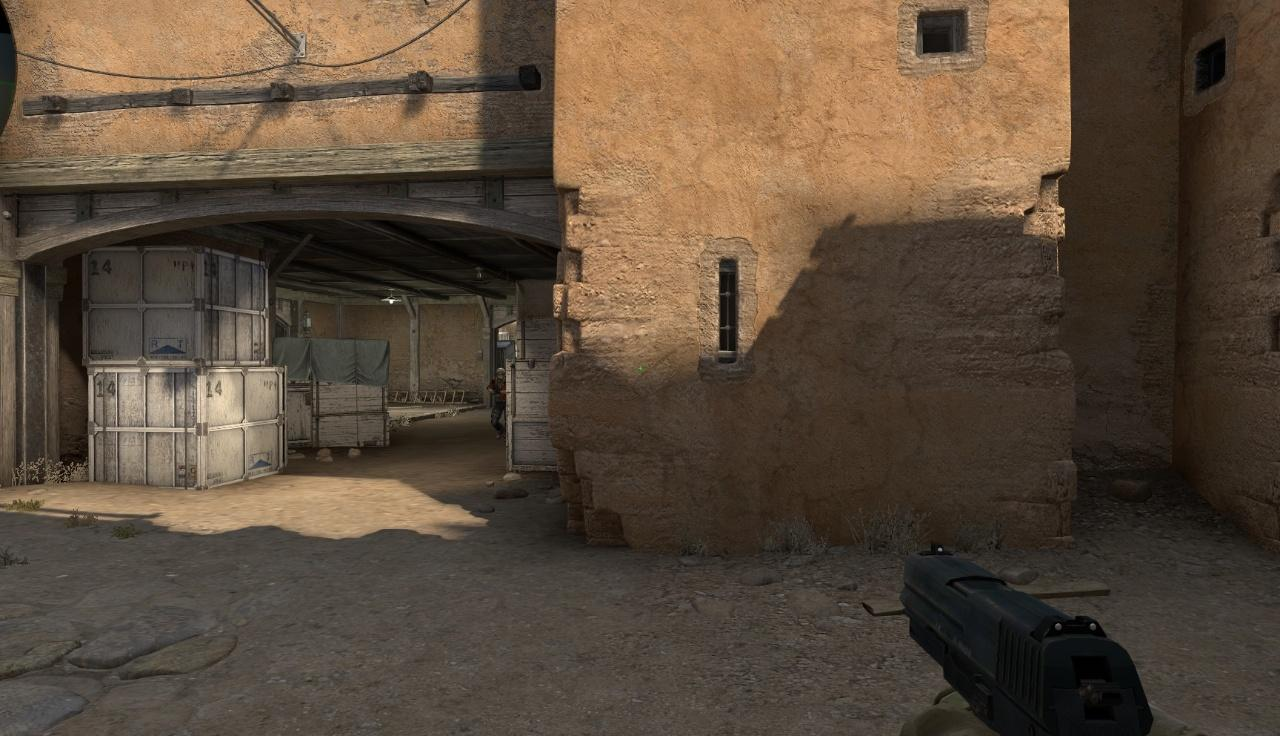pistol: (904, 543, 1157, 733)
tt: (489, 368, 506, 441)
tthead: (496, 367, 505, 382)
